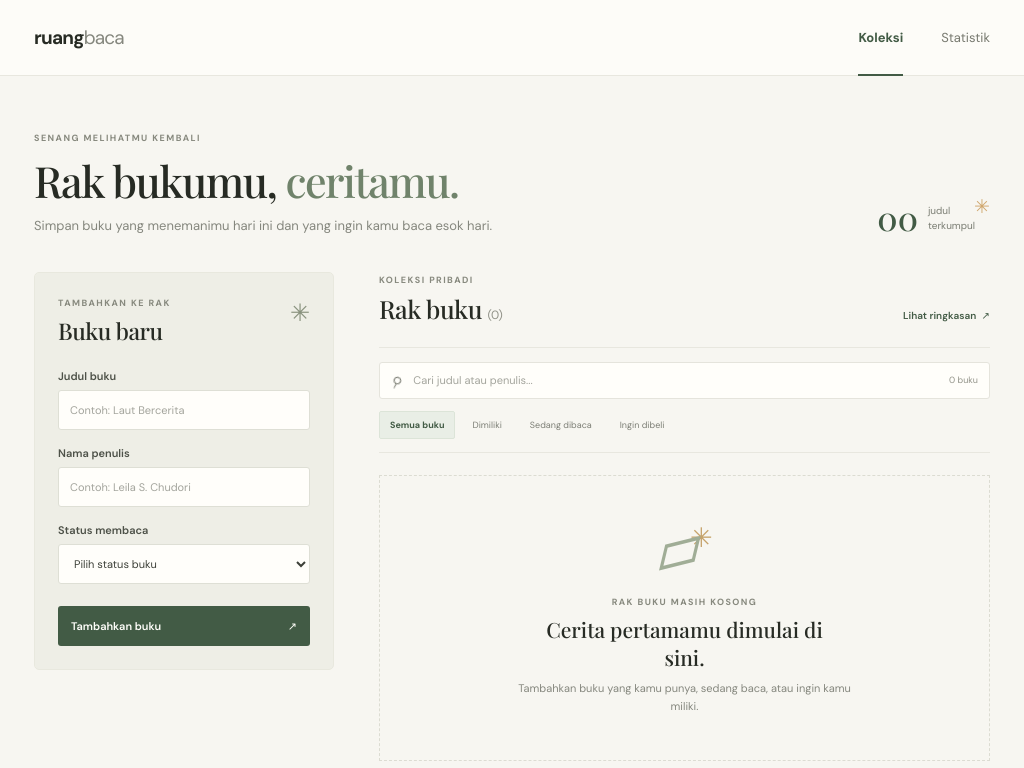
Test: Aplikasi Ruang Baca › mengedit informasi buku
Type "Laut Bercerita" into the field labelled "Judul buku" at (184, 410), box top-left (58, 390), bottom-right (310, 430)
Type "Leila S. Chudori" into the field labelled "Nama penulis" at (184, 487), box top-left (58, 467), bottom-right (310, 507)
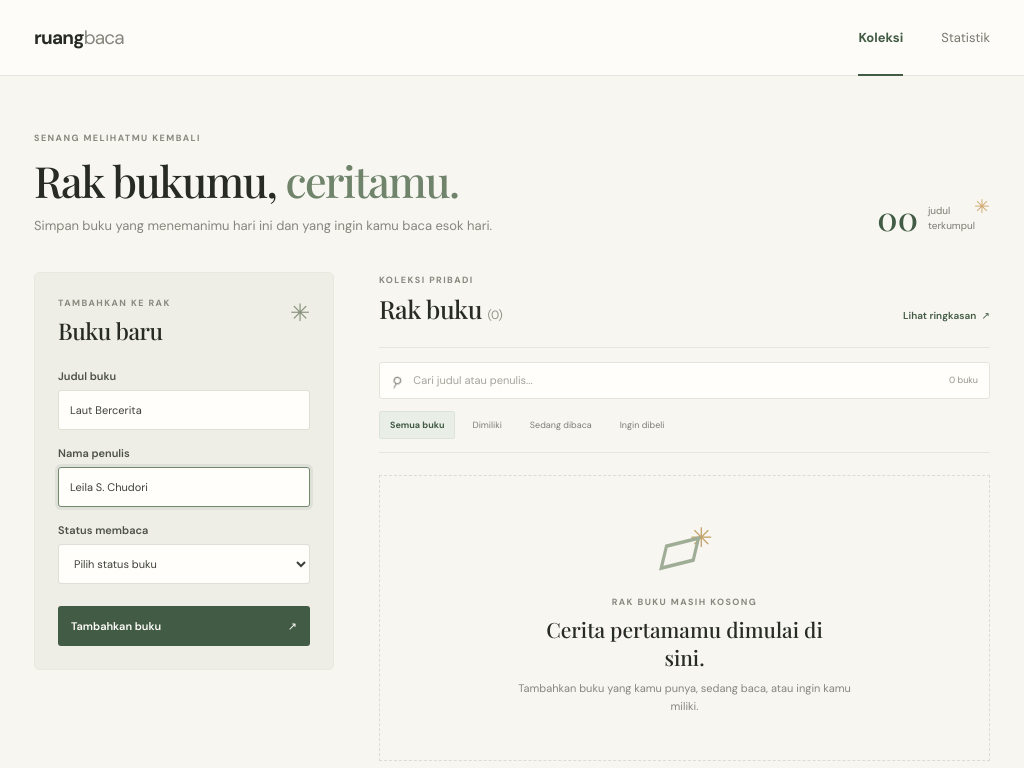
Select "Sedang dibaca" in the dropdown labelled "Status membaca" at (184, 564), box top-left (58, 544), bottom-right (310, 584)
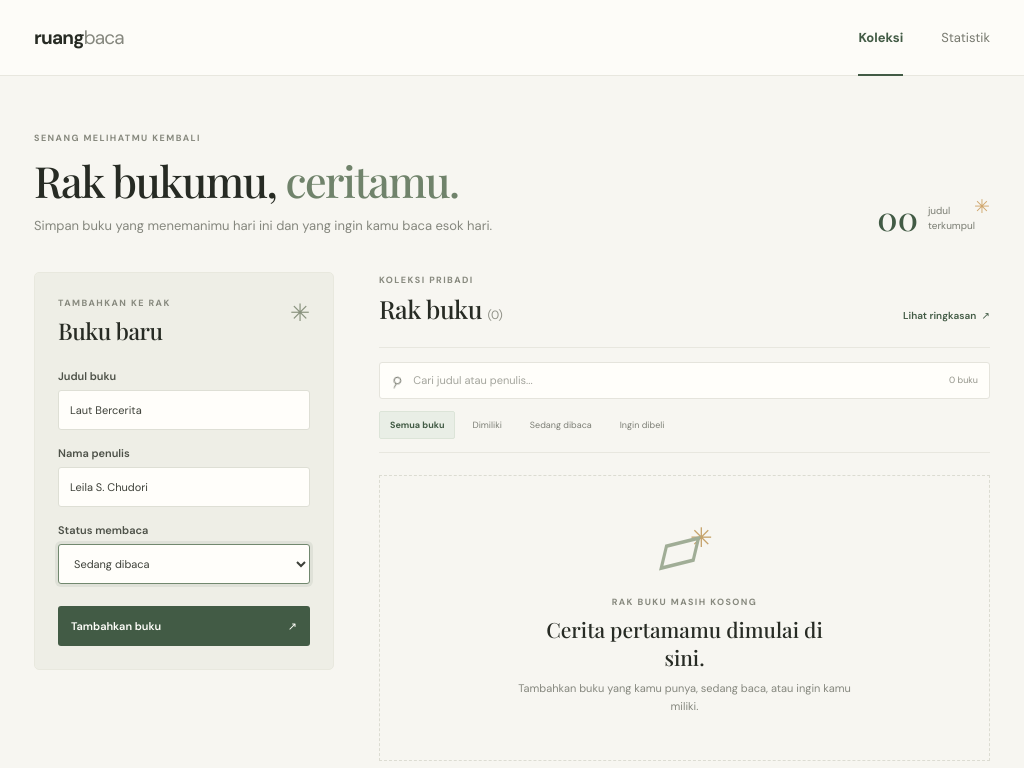
Click the button "Tambahkan buku ↗" at (184, 626), box top-left (58, 606), bottom-right (310, 646)
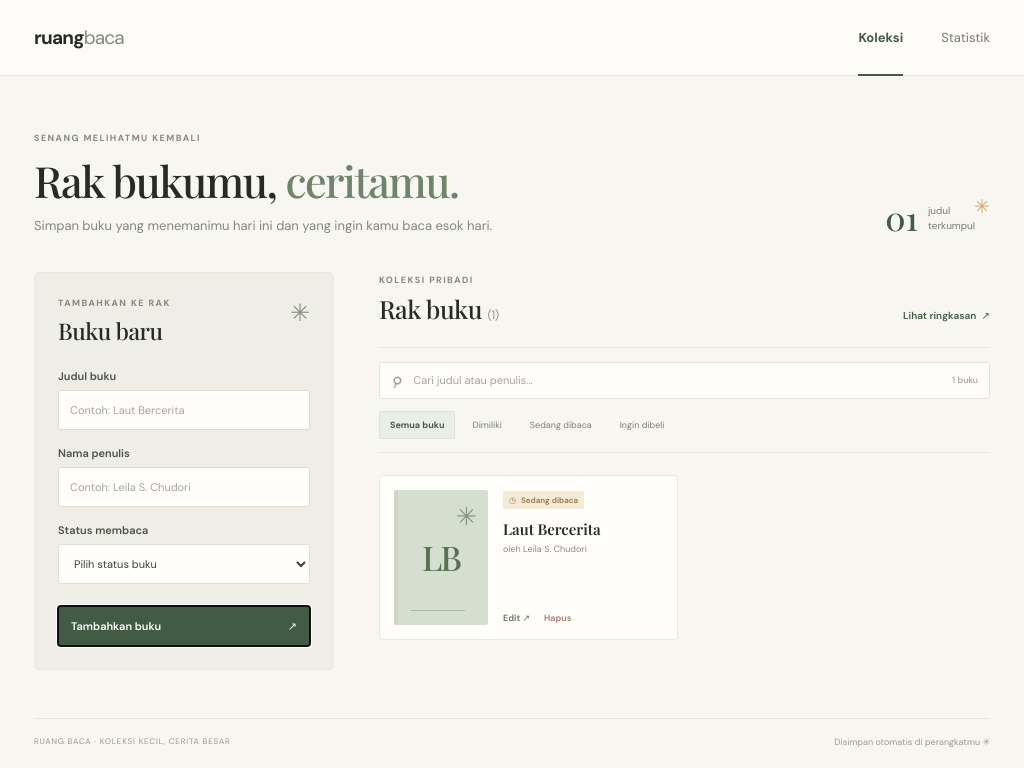
Click the button with aria-label "Edit Laut Bercerita" at (516, 618), box top-left (503, 612), bottom-right (530, 624)
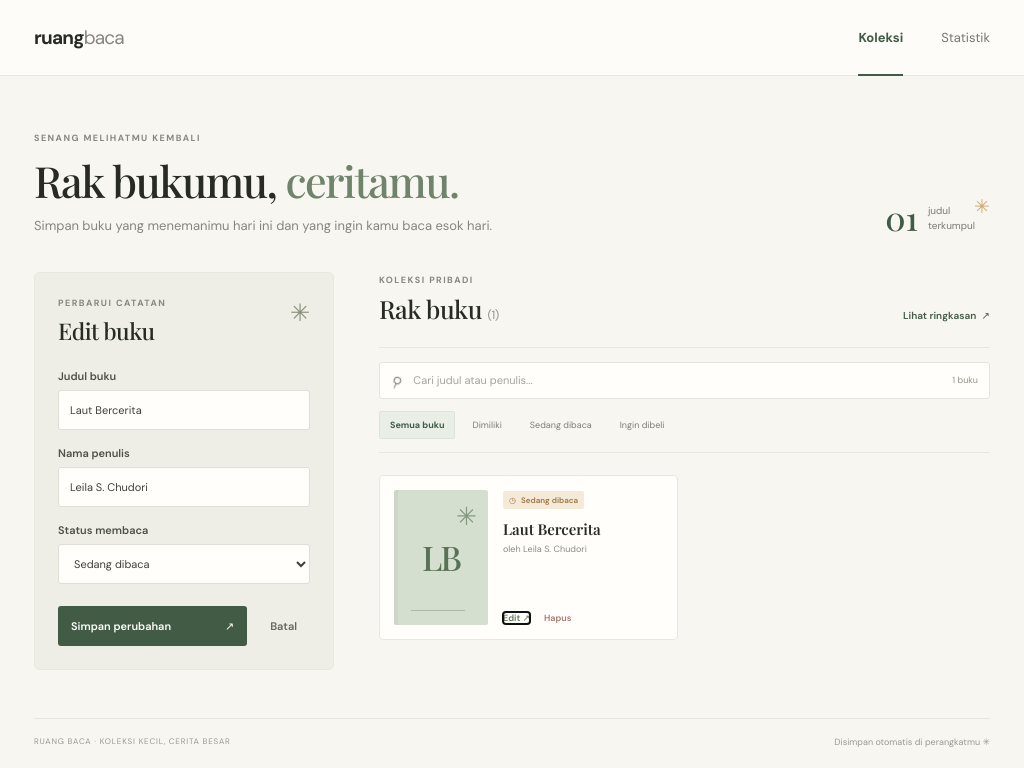
Replace the text in the field labelled "Judul buku" with "Pulang" at (184, 410), box top-left (58, 390), bottom-right (310, 430)
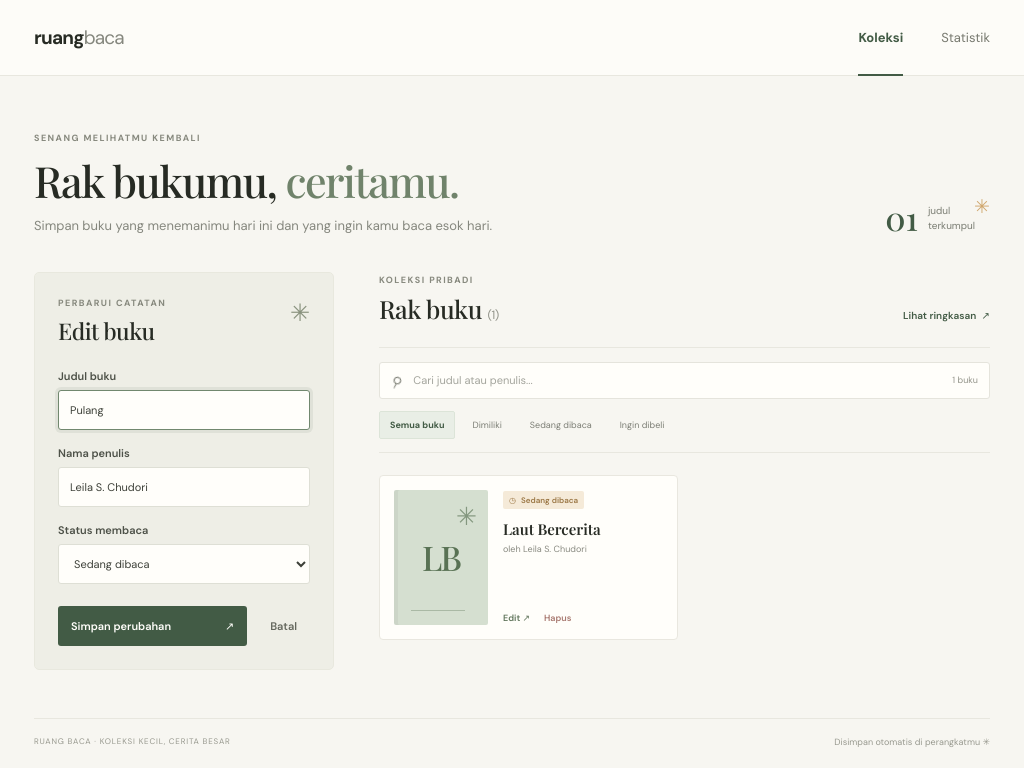
Click the button "Simpan perubahan ↗" at (153, 626), box top-left (58, 606), bottom-right (247, 646)
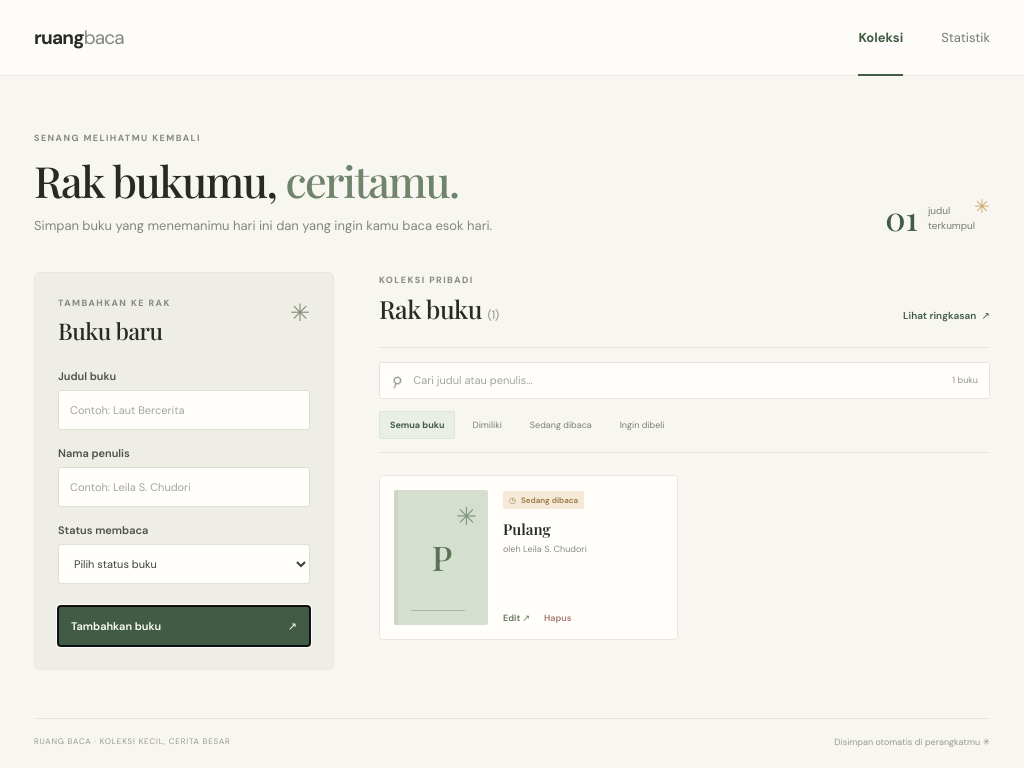
Check: the heading "Pulang" is shown, box top-left (503, 520), bottom-right (551, 539)
